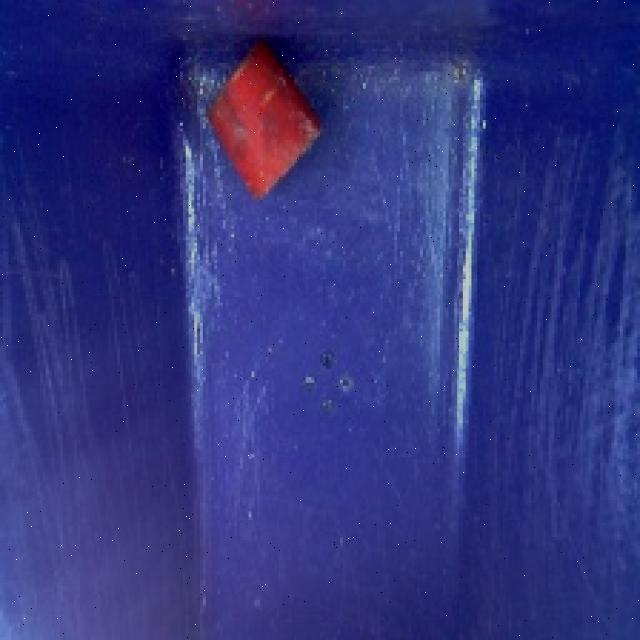carrots: (193, 32, 336, 203)
